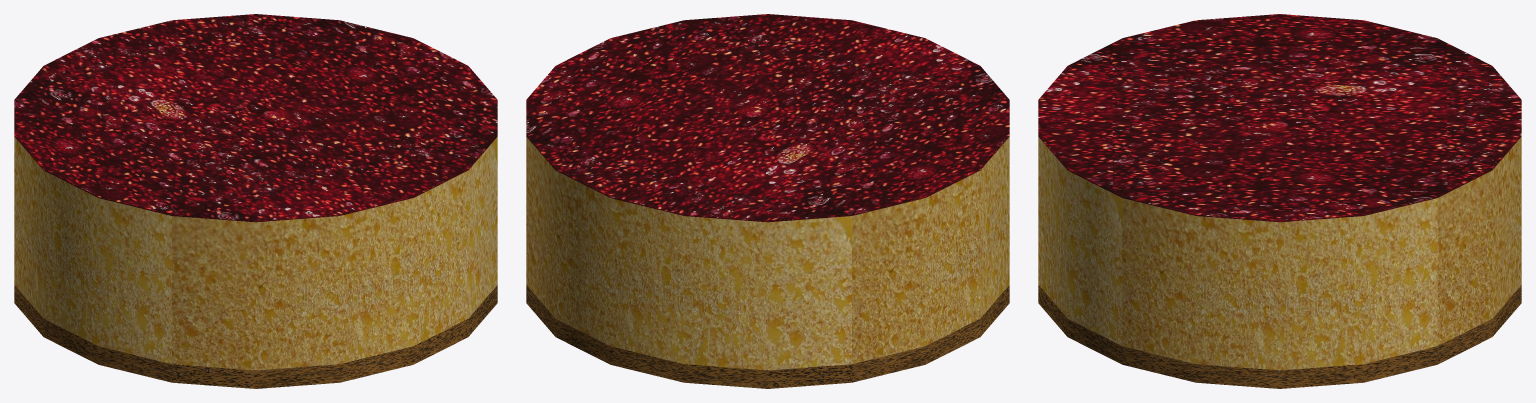
File: Modelo3DCheesecake.FBX
3 renders of one model, left to right at view 1: azimuth 30°, elevation 25°; view 2: azimuth 150°, elevation 25°; view 3: azimuth 270°, elevation 25°, orthographic.
Visible parts, largest first — view 1: Cubierta, TortaSuperiorCirculo, TortaInferiorCirculo; view 2: Cubierta, TortaSuperiorCirculo, TortaInferiorCirculo; view 3: Cubierta, TortaSuperiorCirculo, TortaInferiorCirculo.
Part boxes in pixels (<box>): Cubierta: <box>14,14,497,222</box>; TortaSuperiorCirculo: <box>14,137,497,370</box>; TortaInferiorCirculo: <box>14,285,497,388</box>; Cubierta: <box>526,14,1009,222</box>; TortaSuperiorCirculo: <box>526,137,1009,370</box>; TortaInferiorCirculo: <box>526,285,1009,388</box>; Cubierta: <box>1038,14,1521,222</box>; TortaSuperiorCirculo: <box>1038,137,1521,370</box>; TortaInferiorCirculo: <box>1038,285,1521,388</box>.
Size of the model in its own units: 47.24 by 17.82 by 46.53.
Materials: 3 (3 with a texture image).
